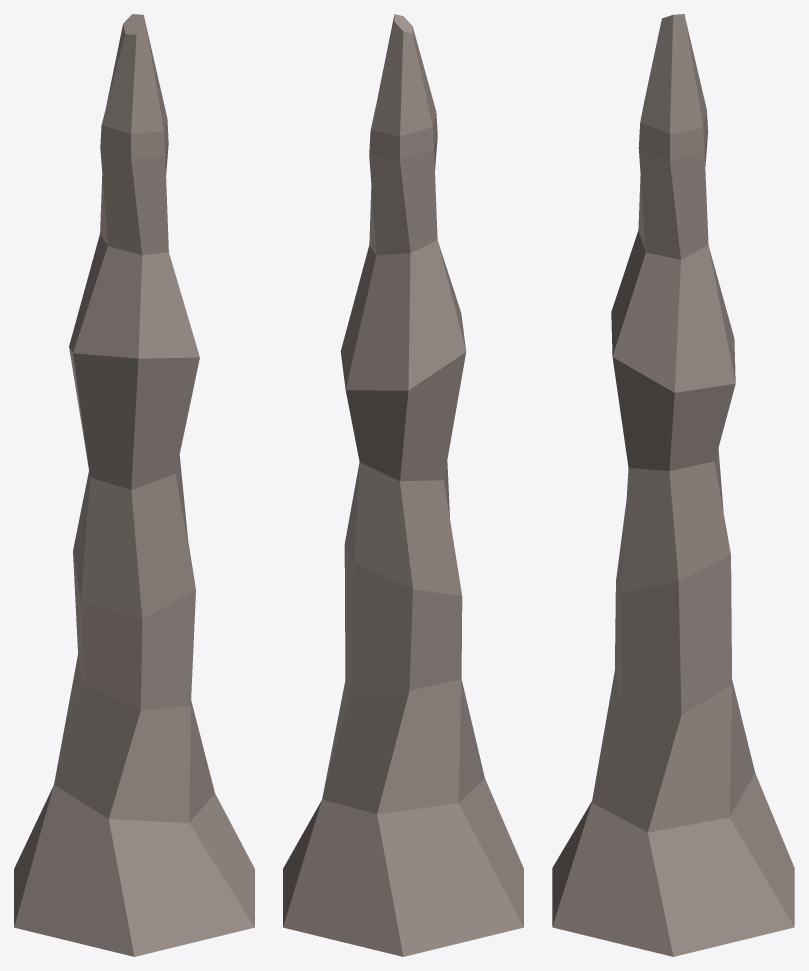
Rendered from SM_Flowstone_Var1.fbx.
3 renders of one model, left to right at view 1: azimuth 30°, elevation 25°; view 2: azimuth 150°, elevation 25°; view 3: azimuth 270°, elevation 25°, orthographic.
Parts seen in each view (by area): view 1: SM_Stalagmite_Var1; view 2: SM_Stalagmite_Var1; view 3: SM_Stalagmite_Var1.
Boxes of the visible parts, bbox=[...] form: SM_Stalagmite_Var1: bbox=[14, 14, 254, 956]; SM_Stalagmite_Var1: bbox=[283, 14, 523, 956]; SM_Stalagmite_Var1: bbox=[552, 14, 794, 956].
Size of the model in its own units: 122 by 426 by 106.
